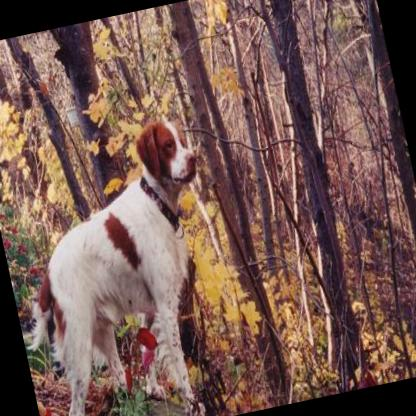Brittany_spaniel: (0, 101, 249, 416)
